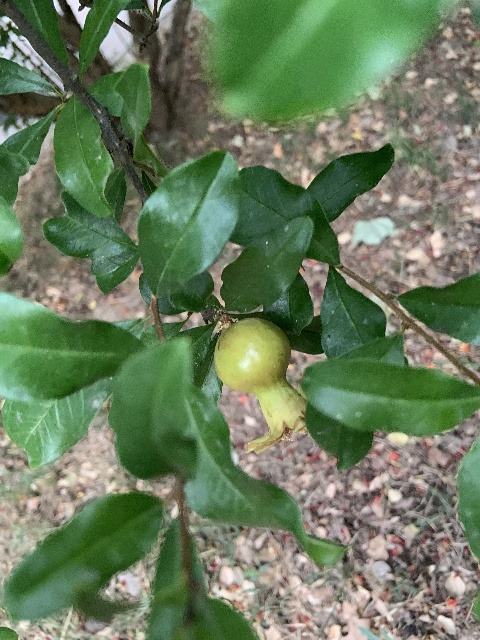mid-growth: (213, 317, 308, 452)
